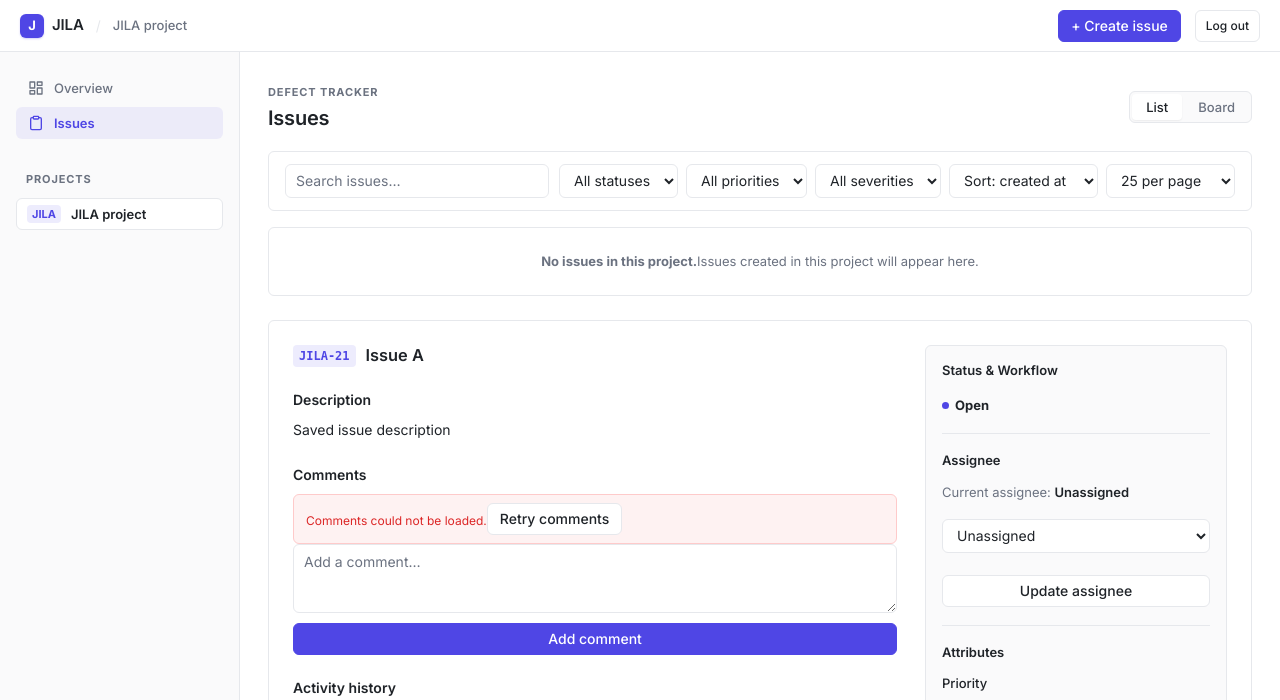
Test: WorkspaceComponent › retries failed comment loads without changing the independent activity result
The width and height of the screenshot is (1280, 700).
Click the button "Retry comments".
click(555, 519)  # box left=487, top=503, right=622, bottom=535
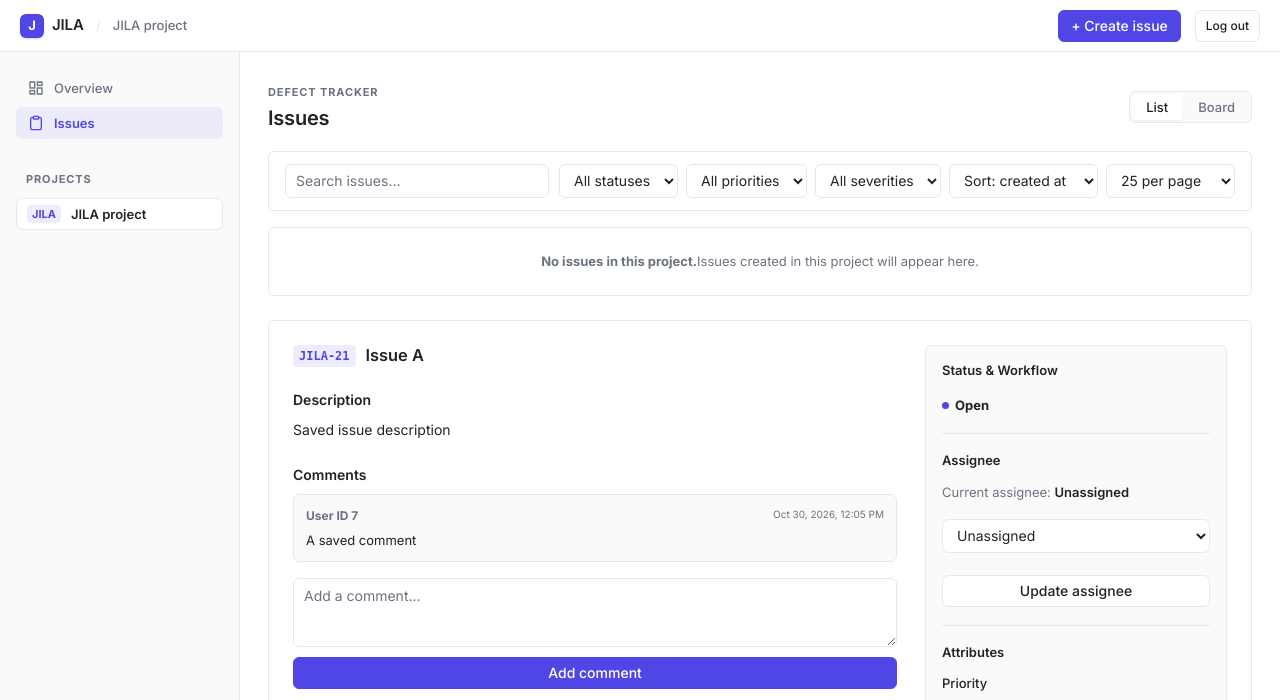
Result: the text "Comments could not be loaded." is gone
